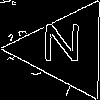N: (41, 24, 83, 71)
